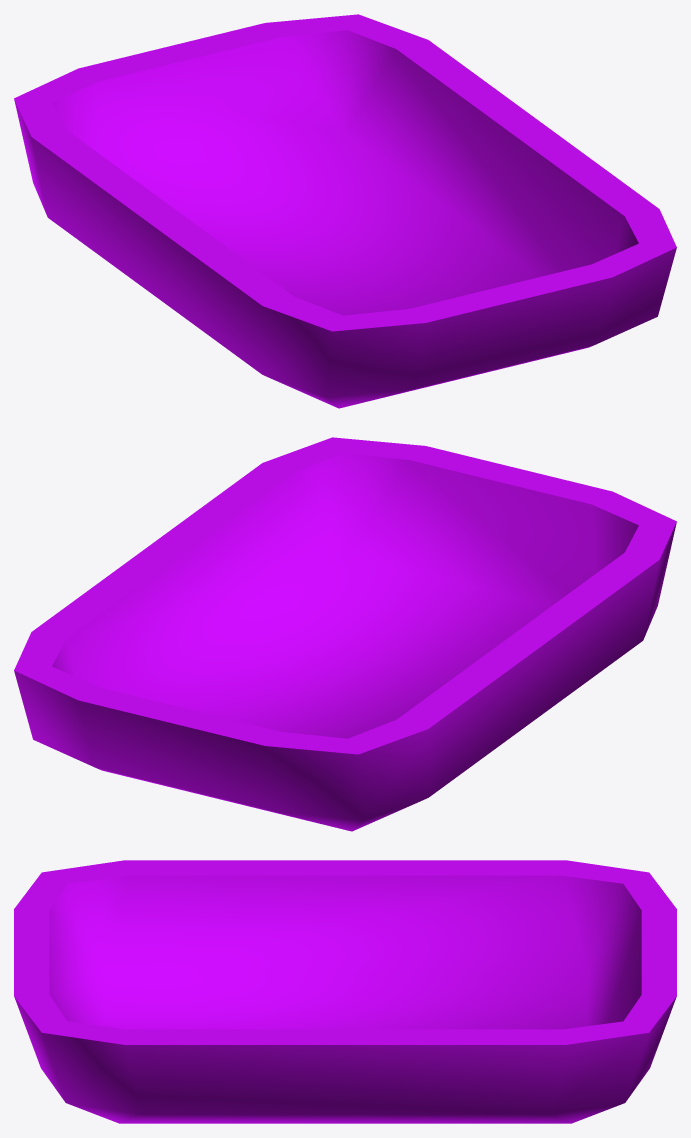
File: bathroom_soap_holder_meshCollider.fbx
The picture shows the model from 3 angles, top to bottom: view 1: azimuth 30°, elevation 25°; view 2: azimuth 150°, elevation 25°; view 3: azimuth 270°, elevation 25°; orthographic projection. The views are drawn at different scales.
Parts seen in each view (by area): view 1: bathroom_soap_holder_meshCollider; view 2: bathroom_soap_holder_meshCollider; view 3: bathroom_soap_holder_meshCollider.
Part boxes in pixels (x1=…): bathroom_soap_holder_meshCollider: x1=14, y1=14, x2=676, y2=408; bathroom_soap_holder_meshCollider: x1=14, y1=437, x2=676, y2=831; bathroom_soap_holder_meshCollider: x1=14, y1=860, x2=676, y2=1123.
Size of the model in its own units: 13.58 by 3.87 by 20.59.
